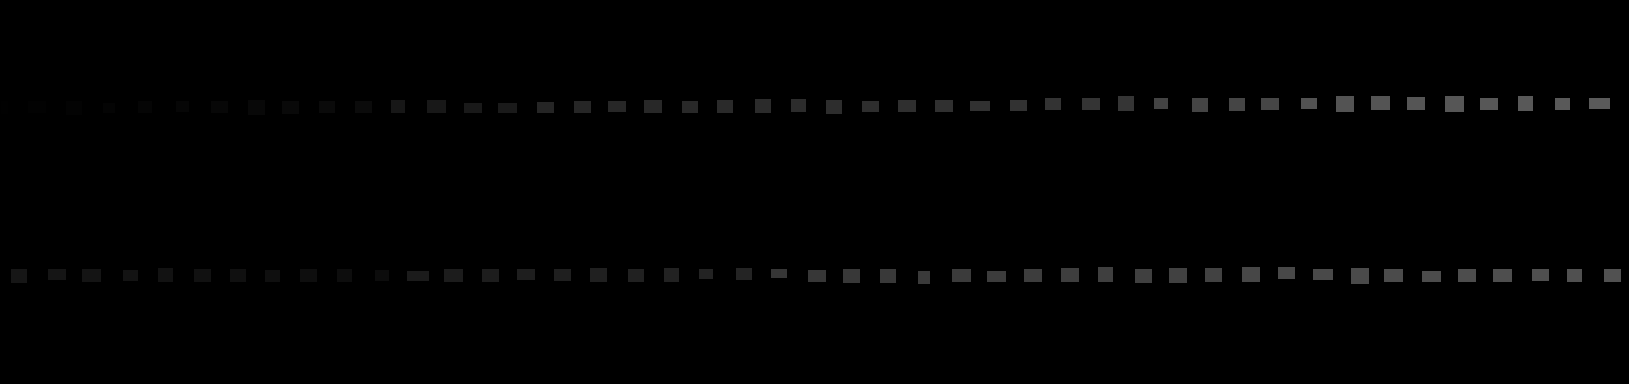light: (1351, 268, 1369, 284), (1445, 95, 1464, 112), (1336, 95, 1354, 112), (1169, 268, 1187, 283), (1241, 267, 1260, 282), (1061, 268, 1079, 282), (1371, 95, 1390, 110), (444, 269, 463, 282), (952, 269, 971, 282), (248, 100, 265, 115), (1118, 95, 1134, 111), (843, 269, 860, 283), (1134, 269, 1152, 283), (82, 269, 101, 282), (427, 100, 446, 113), (1384, 269, 1403, 282), (1458, 269, 1476, 282), (1493, 269, 1512, 282), (1407, 97, 1425, 110), (1588, 98, 1610, 109), (1518, 95, 1533, 111), (590, 268, 607, 282), (1205, 268, 1222, 282), (1192, 98, 1208, 112), (282, 101, 299, 114), (644, 100, 662, 113), (1024, 269, 1042, 282), (898, 100, 916, 112), (1081, 98, 1100, 110), (66, 101, 82, 115), (158, 268, 173, 282), (11, 269, 27, 283), (407, 271, 429, 281), (664, 268, 679, 282), (755, 99, 771, 113), (826, 100, 842, 114), (880, 269, 896, 283), (1098, 267, 1113, 282), (1313, 269, 1333, 280), (300, 269, 317, 282), (230, 269, 246, 282), (194, 269, 211, 282), (482, 269, 499, 282), (627, 269, 644, 282), (717, 100, 733, 113), (1604, 269, 1621, 282), (28, 101, 46, 113), (554, 269, 571, 281), (935, 100, 953, 112), (808, 270, 826, 282), (1261, 98, 1279, 110), (1278, 267, 1296, 279), (1480, 98, 1498, 110), (48, 269, 66, 280), (608, 101, 626, 112), (987, 271, 1006, 282), (1422, 271, 1441, 282), (337, 269, 352, 282), (791, 99, 806, 112), (1229, 98, 1245, 111), (1567, 269, 1582, 282), (211, 101, 228, 113), (355, 101, 372, 113), (736, 268, 752, 280), (575, 101, 591, 113), (682, 101, 698, 113), (1532, 269, 1549, 281), (498, 103, 517, 113), (970, 101, 990, 111), (517, 269, 535, 280), (1010, 100, 1027, 111), (391, 100, 405, 113), (319, 101, 335, 113), (265, 270, 281, 282), (1045, 98, 1061, 110), (537, 102, 554, 113), (862, 101, 879, 112), (1301, 98, 1317, 109), (464, 103, 482, 113), (1555, 98, 1570, 110), (123, 270, 138, 281), (138, 101, 152, 113), (771, 269, 787, 278), (176, 101, 189, 112), (375, 270, 389, 281), (918, 271, 930, 284), (1154, 98, 1168, 109), (699, 269, 713, 279), (103, 103, 115, 113), (1, 101, 8, 114)
